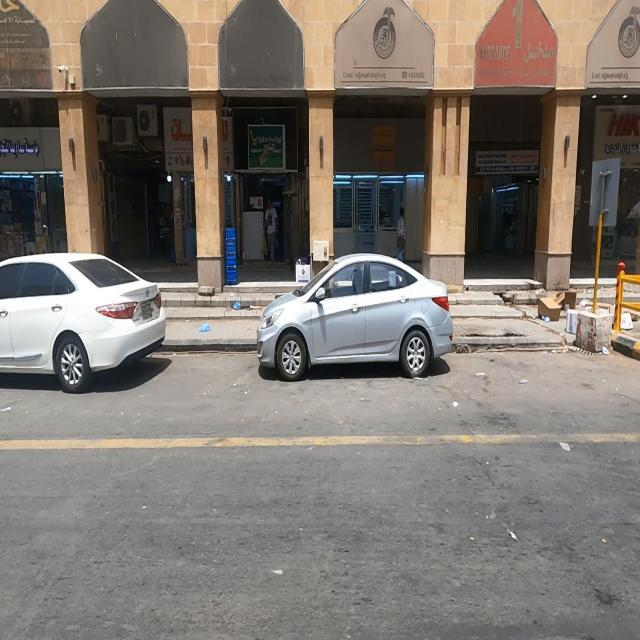debris: (548, 246, 606, 342), (516, 258, 572, 356), (183, 304, 229, 360), (222, 277, 250, 332)
